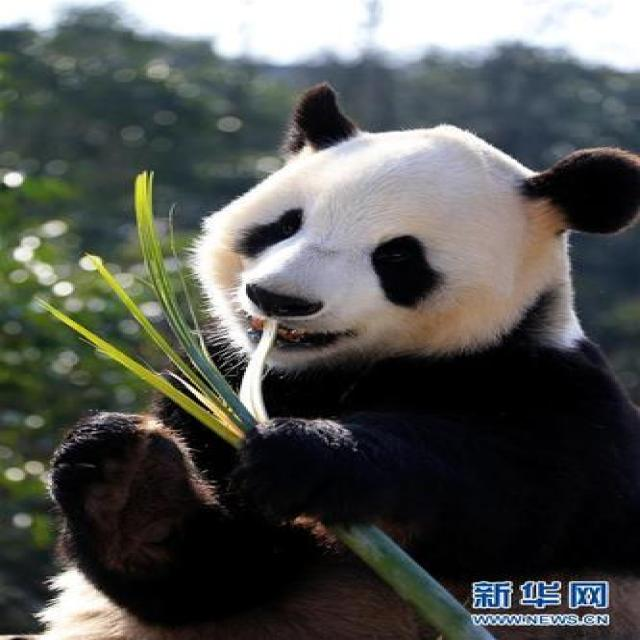panda: (31, 79, 640, 640)
